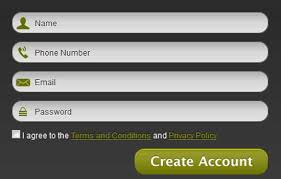button: (129, 147, 271, 176)
checkbox: (7, 128, 22, 141)
textbox: (7, 99, 268, 127), (8, 40, 272, 66), (9, 11, 270, 37), (8, 70, 271, 95)
